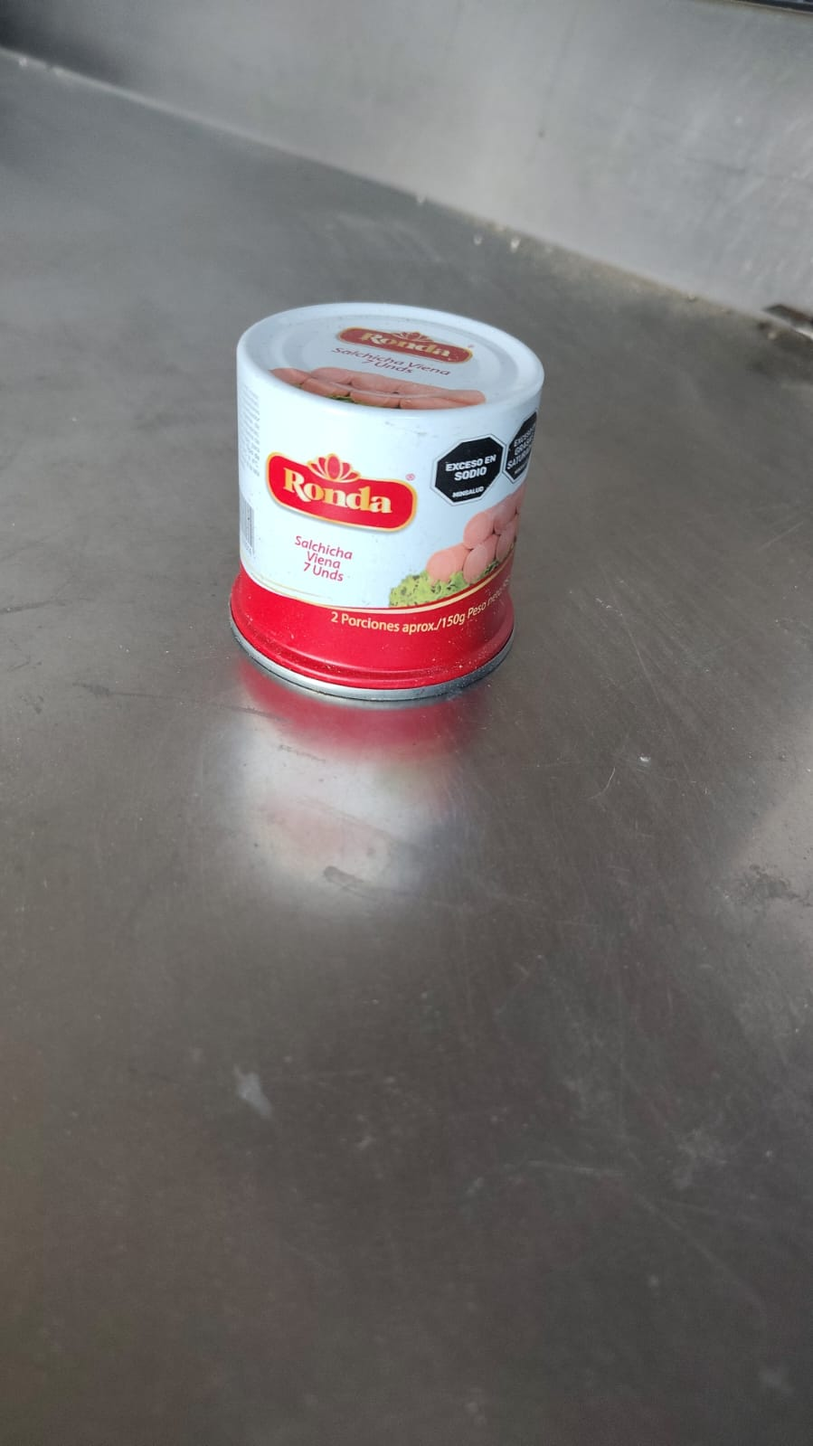Metal: (230, 300, 549, 702)
